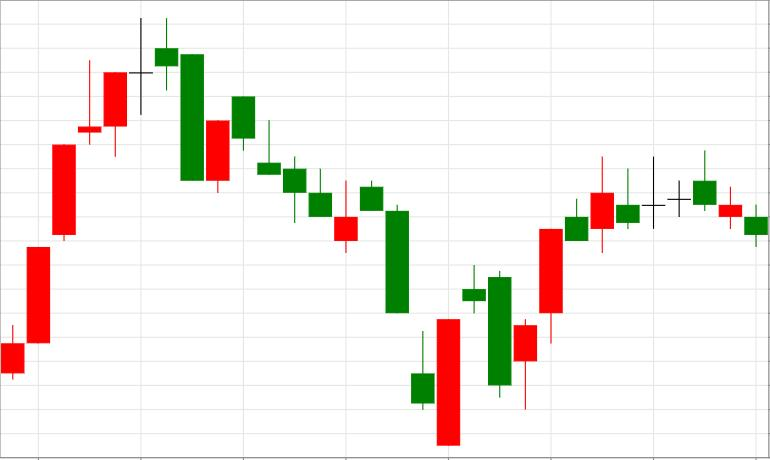bullish_engulfing_rise: (156, 19, 460, 446)
